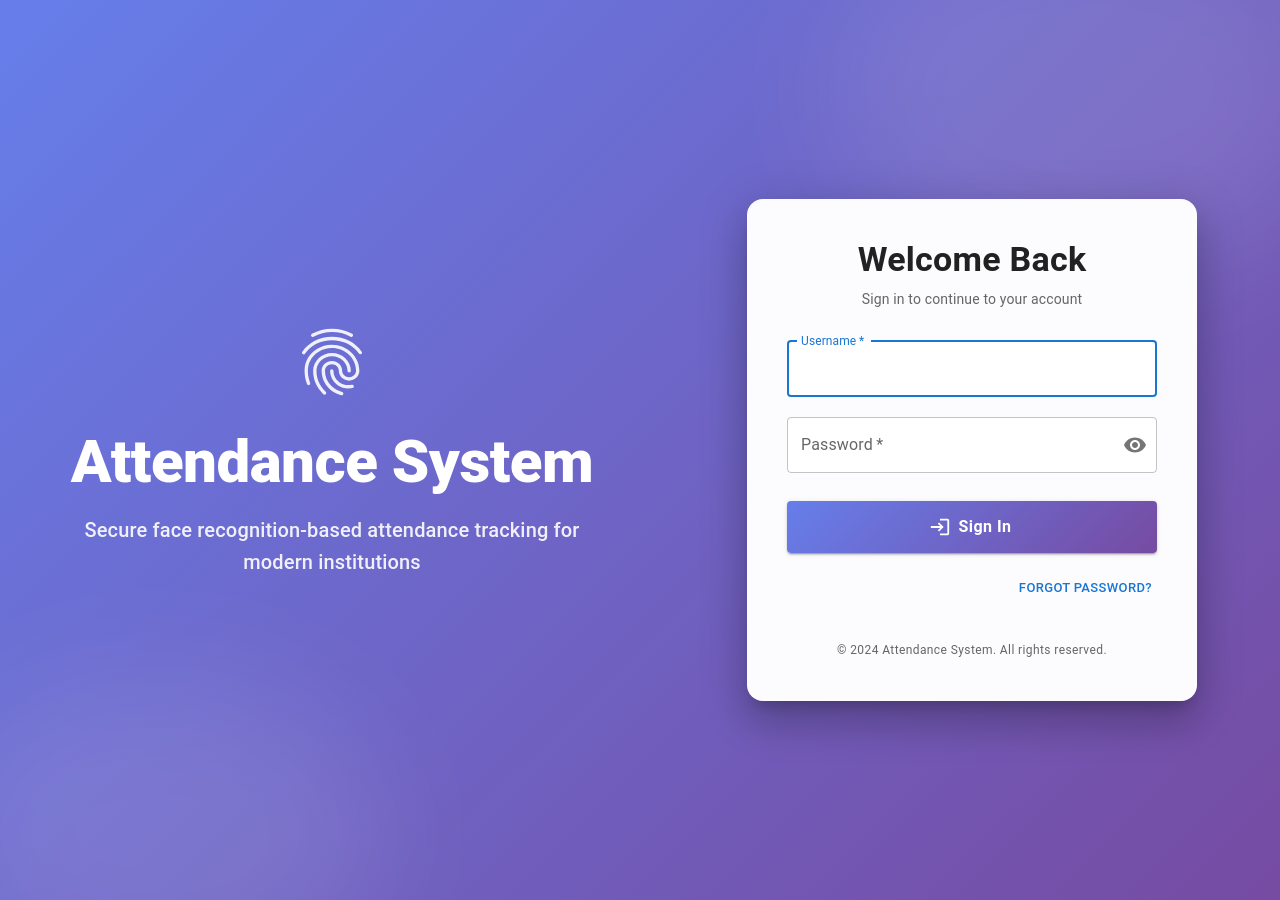
Login page › shows an error for invalid credentials
In the field labelled "Username *": (972, 369) x1=787 y1=341 x2=1157 y2=397, type "admin"
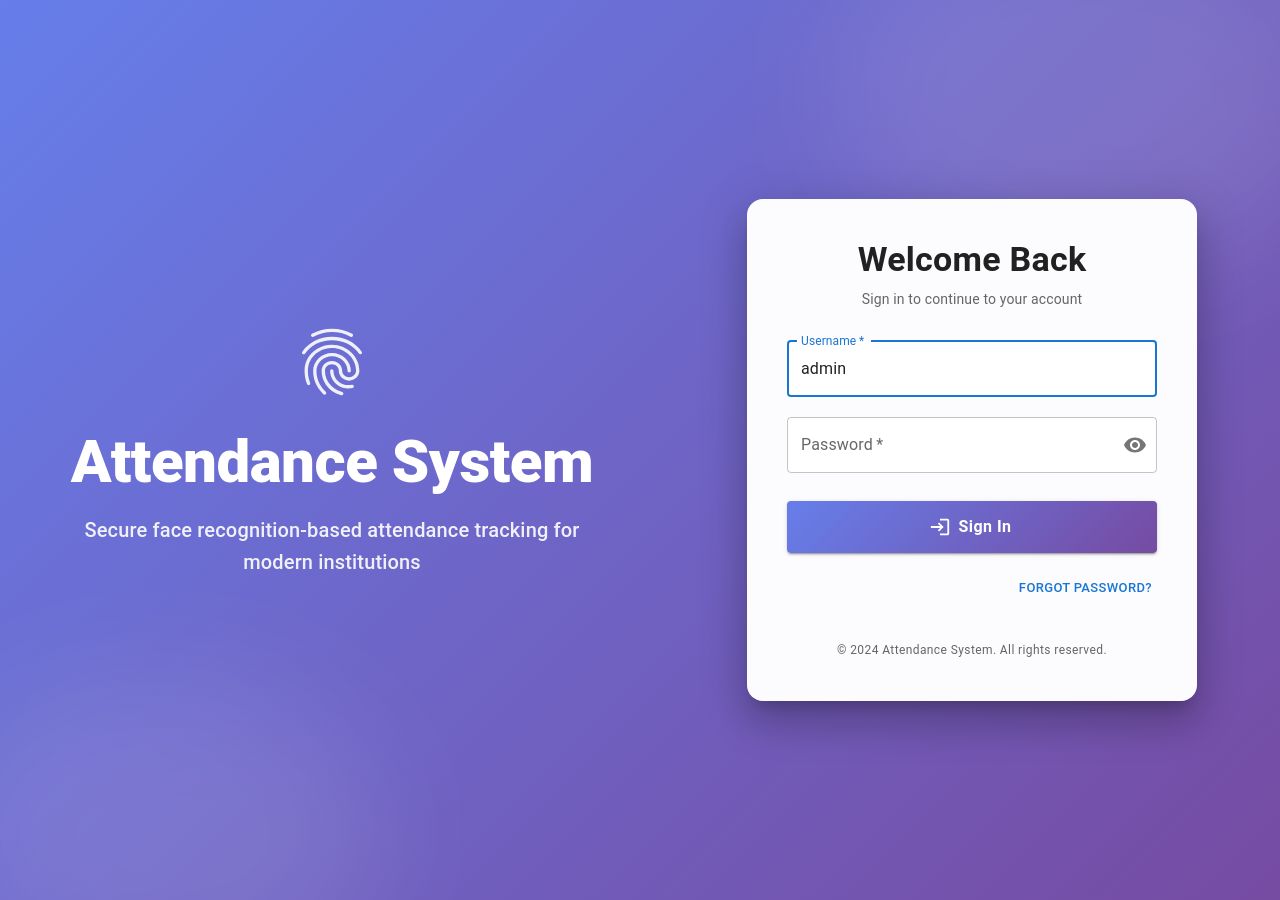
In the password field labelled "Password *": (947, 445) x1=787 y1=417 x2=1107 y2=473, type "wrong"
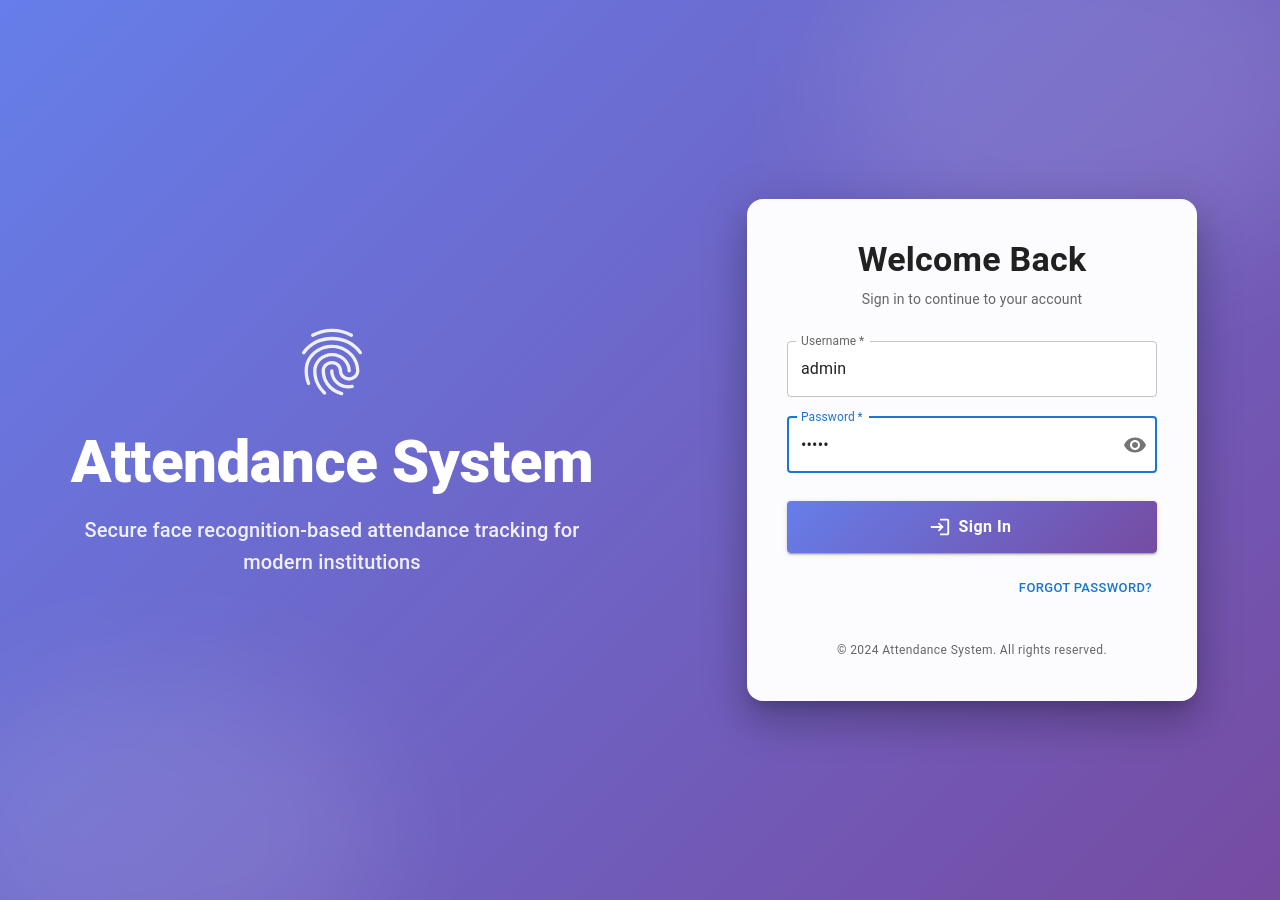
Click the button "Sign In": click(972, 527) x1=787 y1=501 x2=1157 y2=553
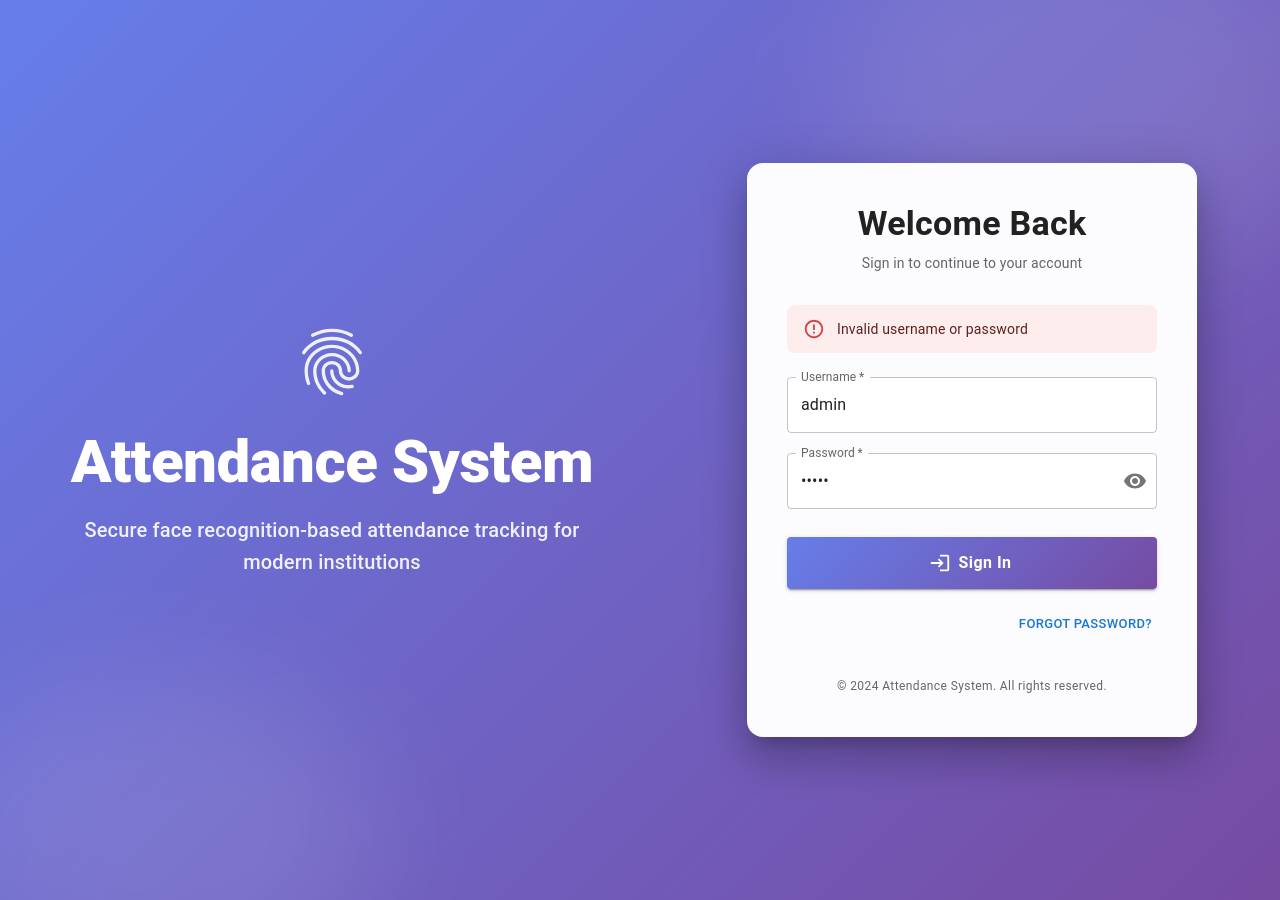
expect the text "Invalid username or password" is shown: met, box x1=837 y1=321 x2=1028 y2=337
